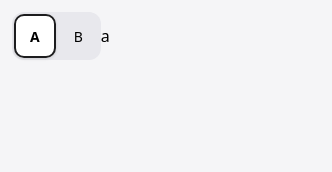
Test case: dashboard shell › marks the pressed segment and reports the change
Click the button "B" at {"x": 78, "y": 36}, box [58, 14, 99, 58]
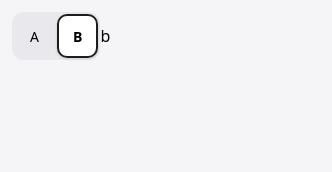
Expected: the text "b" is shown, [100, 24, 110, 46]
